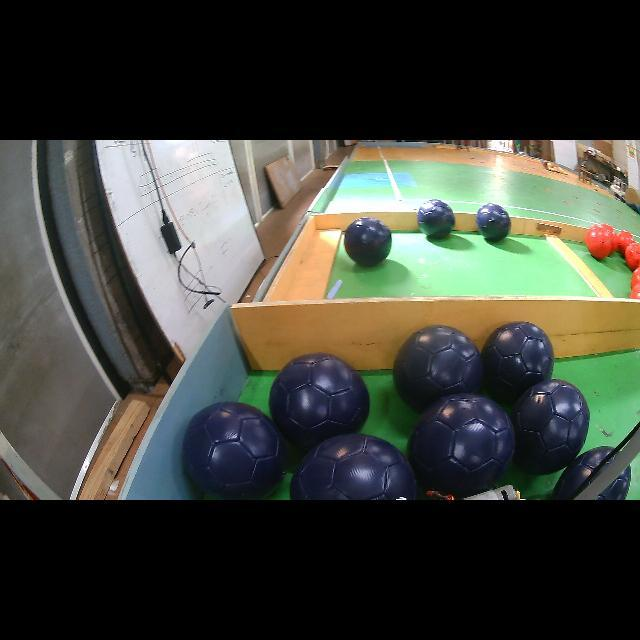B: (408, 394, 515, 496), (182, 401, 288, 499), (270, 352, 370, 449), (290, 434, 416, 500), (392, 325, 482, 411), (510, 379, 590, 475), (481, 321, 554, 404), (551, 446, 614, 500), (344, 218, 391, 266), (418, 199, 455, 239), (476, 204, 511, 242), (595, 466, 631, 500)
R: (585, 225, 611, 259), (598, 224, 618, 253), (618, 230, 635, 256), (625, 242, 640, 271), (631, 264, 640, 288), (630, 282, 640, 298)
